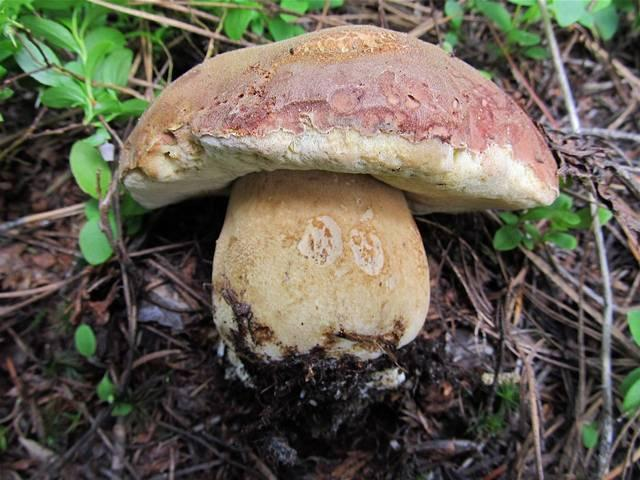edible_mushroom: (115, 22, 560, 384)
